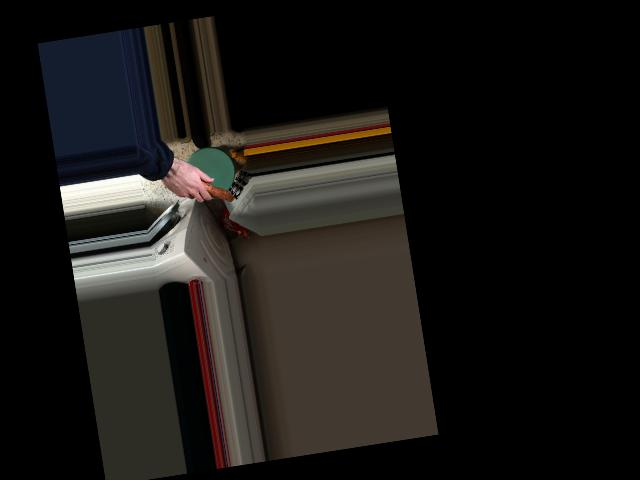sweet_potato: (176, 163, 232, 209)
